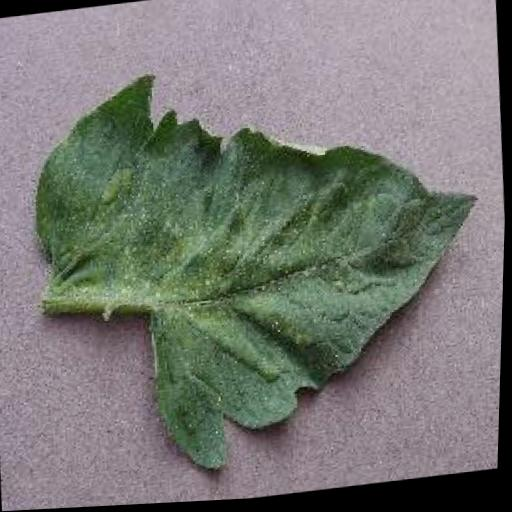Spider Mites: (19, 35, 503, 495)
